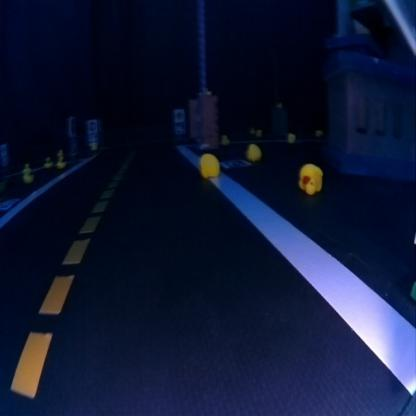Duckie: (300, 164, 322, 192), (200, 154, 219, 178), (246, 146, 260, 160), (23, 169, 32, 182), (44, 156, 51, 167), (221, 134, 228, 144), (57, 159, 65, 167), (250, 126, 256, 134), (256, 129, 262, 135), (90, 142, 96, 147), (58, 149, 60, 157)
QR code: (176, 120, 184, 132), (88, 132, 96, 141)
Stop sign: (88, 120, 96, 130)
